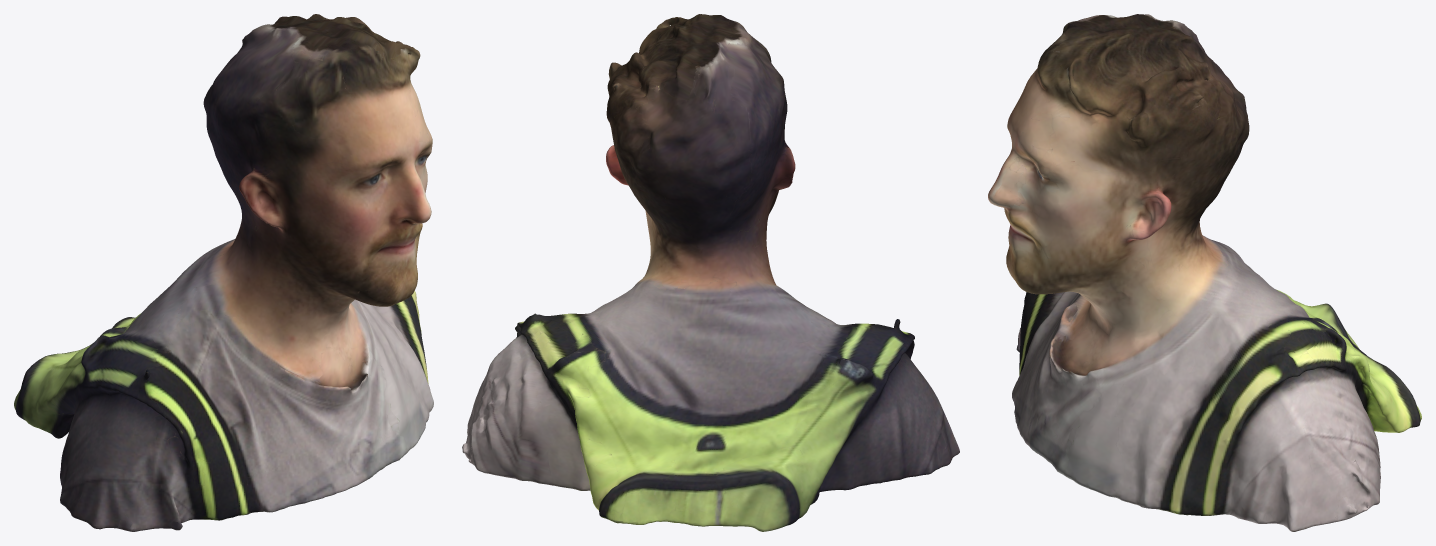
3 renders of one model, left to right at view 1: azimuth 30°, elevation 25°; view 2: azimuth 150°, elevation 25°; view 3: azimuth 270°, elevation 25°, orthographic. The views are drawn at different scales.
Parts seen in each view (by area): view 1: Object_2; view 2: Object_2; view 3: Object_2.
Part boxes in pixels (x1,y1,x2,y2): Object_2: (14, 14, 433, 531); Object_2: (462, 14, 959, 531); Object_2: (988, 14, 1421, 531).
Bounding box in the file's own units: 0.4601 × 0.4301 × 0.3957.
1 material, 1 textured.
